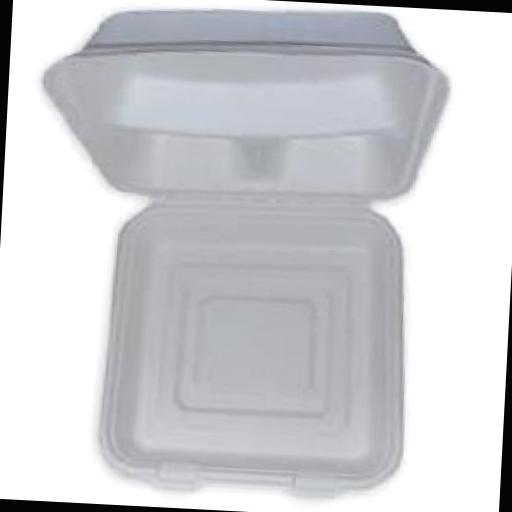paper: (24, 4, 456, 506)
